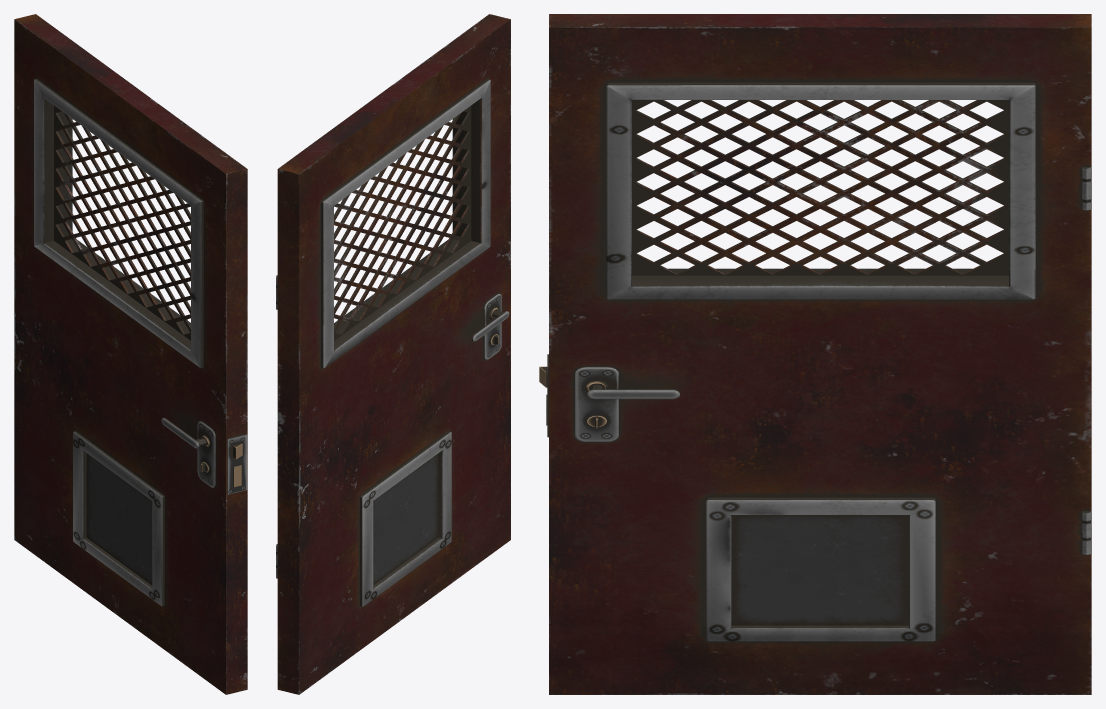
File: metal_door.glb
3 views of the same model, side by side, from view 1: azimuth 30°, elevation 25°; view 2: azimuth 150°, elevation 25°; view 3: azimuth 270°, elevation 25° (orthographic). The views are drawn at different scales.
Parts seen in each view (by area): view 1: 01__0.001; view 2: 01__0.001; view 3: 01__0.001.
Boxes of the visible parts, box(x1,y1,x2,y2) form: 01__0.001: box(14, 14, 247, 694); 01__0.001: box(276, 14, 510, 694); 01__0.001: box(539, 14, 1091, 694).
Size of the model in its own units: 0.4 by 4 by 3.
Materials: 1 (1 with a texture image).
